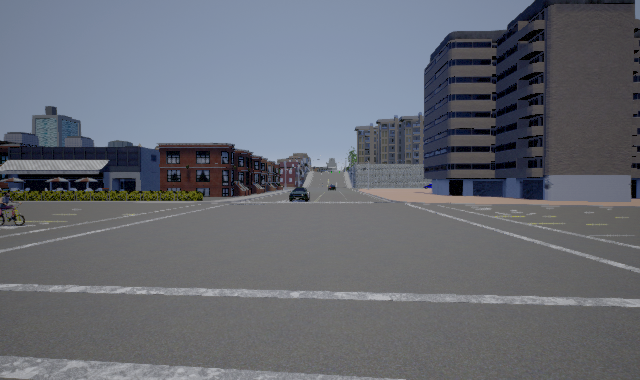bike: (1, 191, 28, 224)
vehicle: (289, 187, 310, 202)
